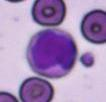M: (26, 28, 78, 78)
